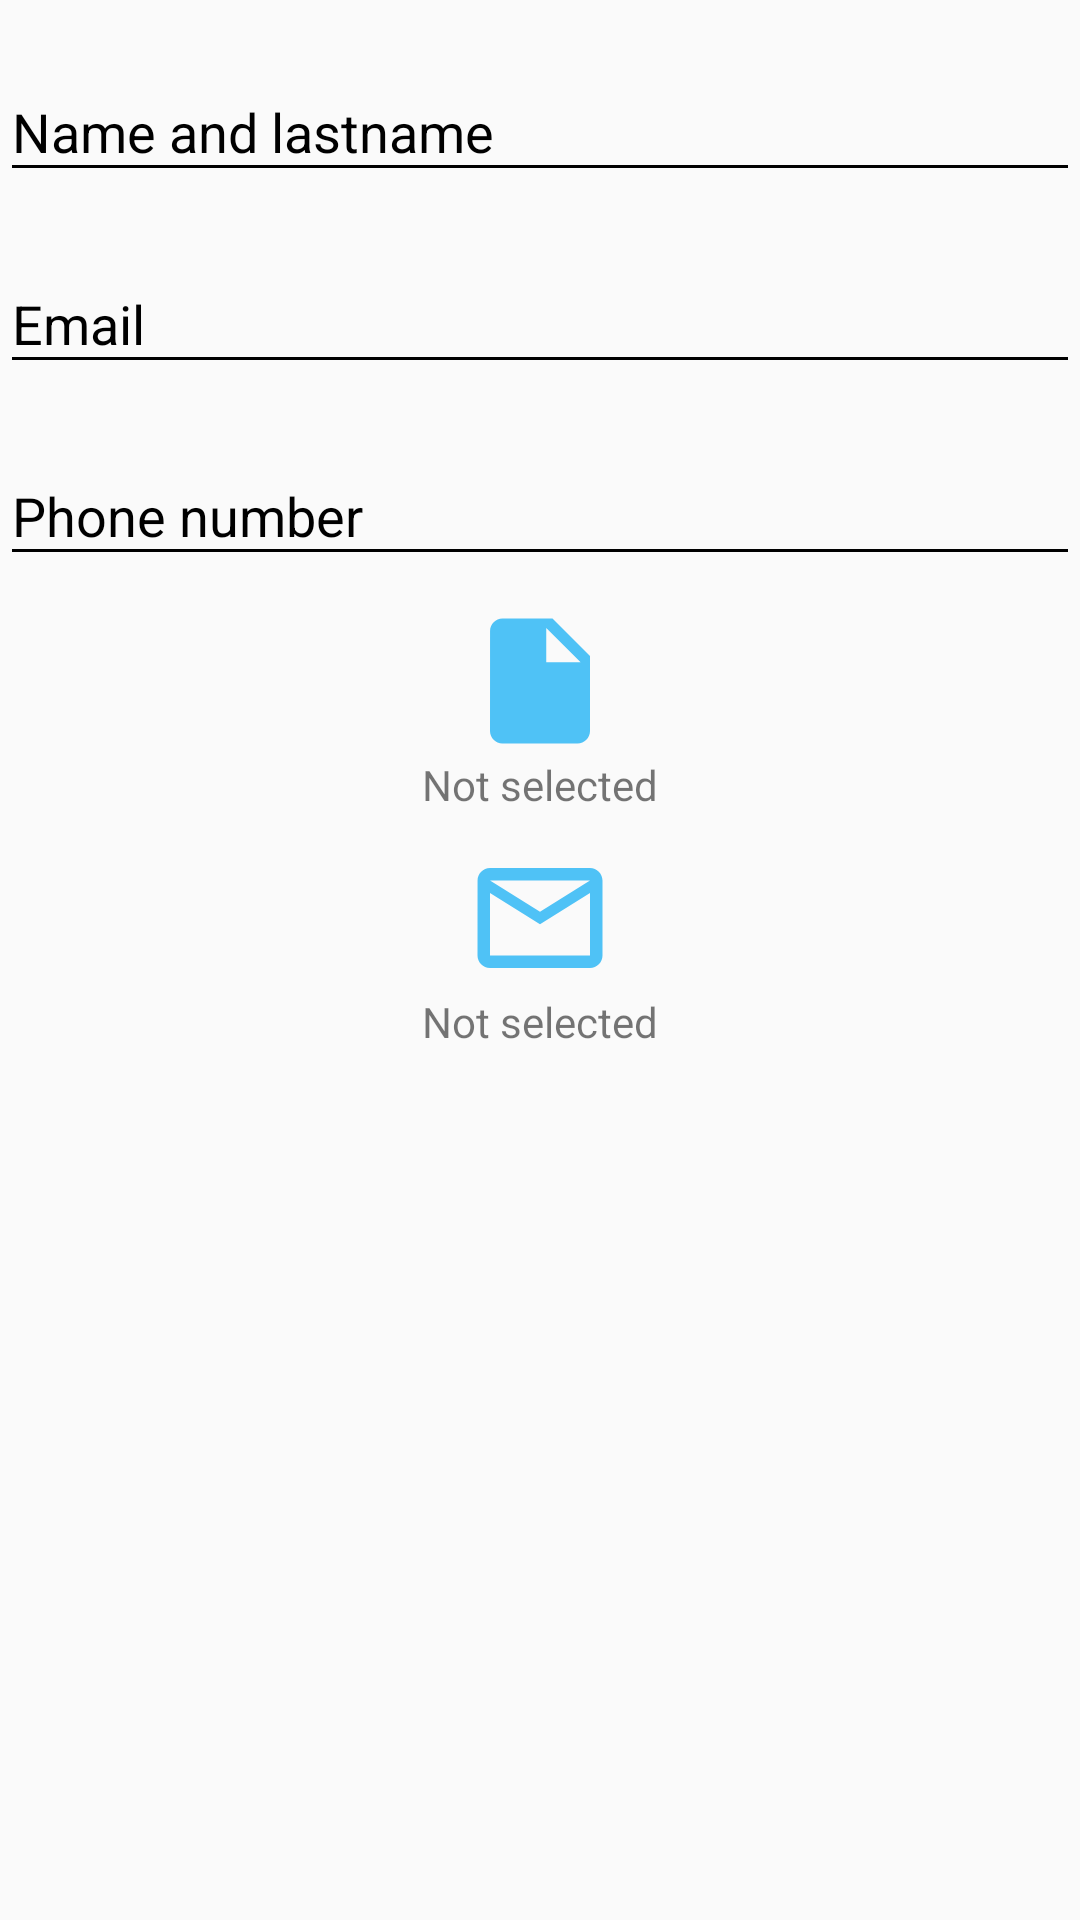

Named icons in this screenshot (1080px x 1920px) and their centers, (x,y):
letter: (540,918)
